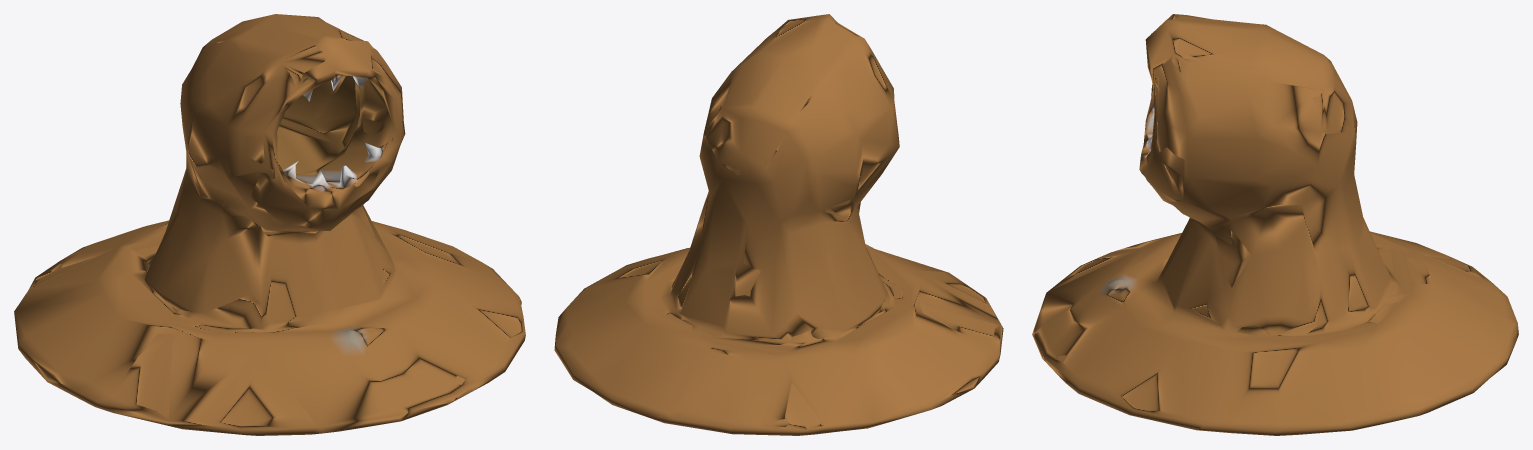
File: gen3d-sandworm-lod0.glb
3 views of the same model, side by side, from view 1: azimuth 30°, elevation 25°; view 2: azimuth 150°, elevation 25°; view 3: azimuth 270°, elevation 25° (orthographic). The views are drawn at different scales.
Parts seen in each view (by area): view 1: part_0; view 2: part_0; view 3: part_0.
Boxes of the visible parts, bbox=[...] form: part_0: bbox=[14, 14, 525, 435]; part_0: bbox=[554, 14, 1003, 435]; part_0: bbox=[1032, 14, 1518, 435].
Size of the model in its own units: 1.41 by 1 by 1.41.
